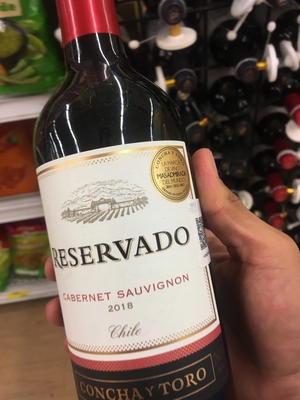reservado cabernet sauvignon: (31, 11, 231, 400)
